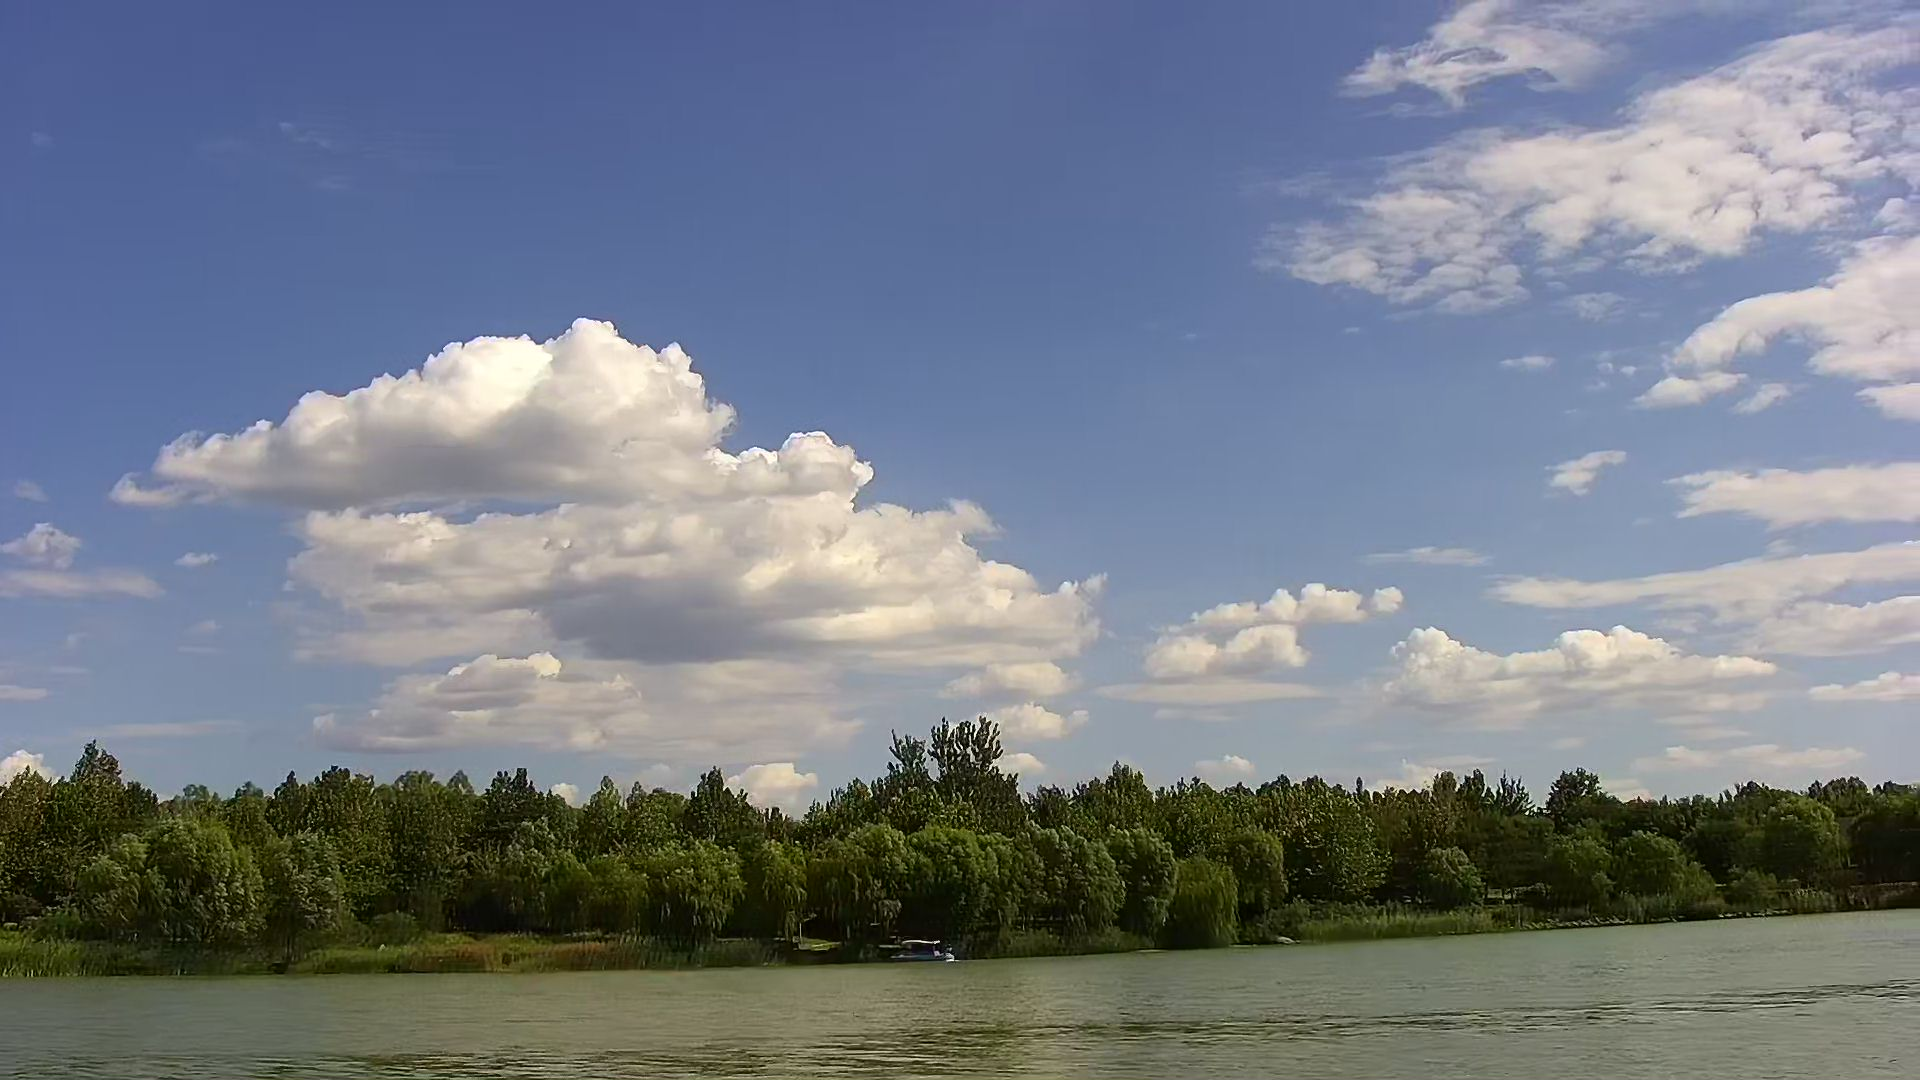boat: (880, 939, 957, 967)
